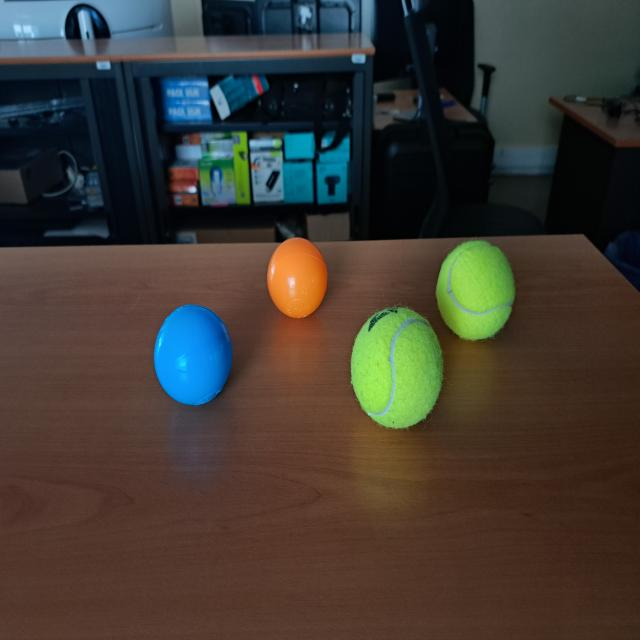blue: (151, 302, 234, 409)
orange: (267, 237, 328, 320)
tennis: (352, 304, 445, 430), (436, 242, 516, 341)
